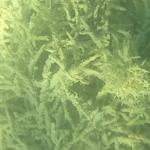dead: (3, 1, 147, 146)
